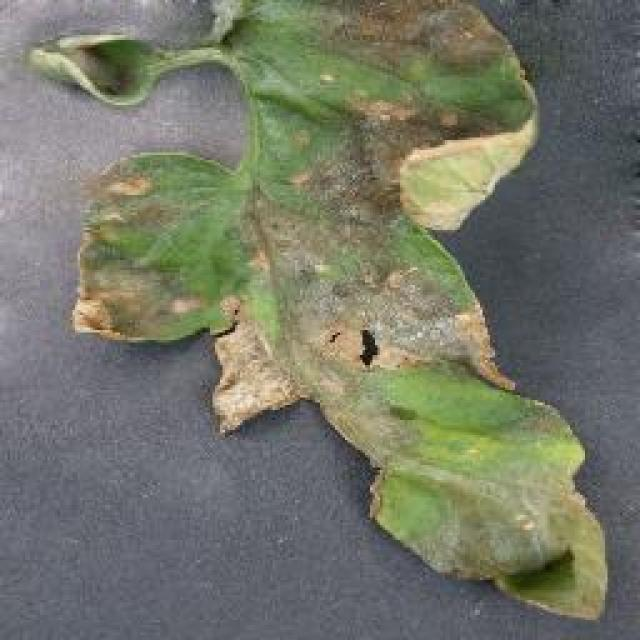Tomato Late Blight: (148, 29, 547, 568)
